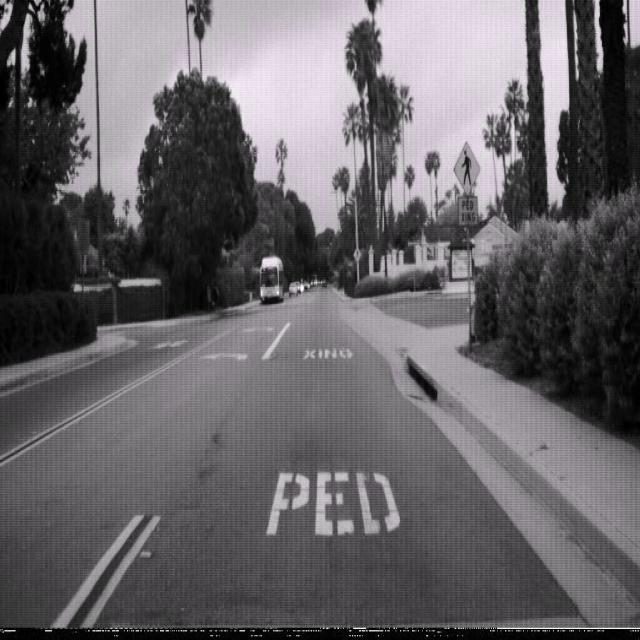pedestrianCrossing: (452, 139, 482, 196)
